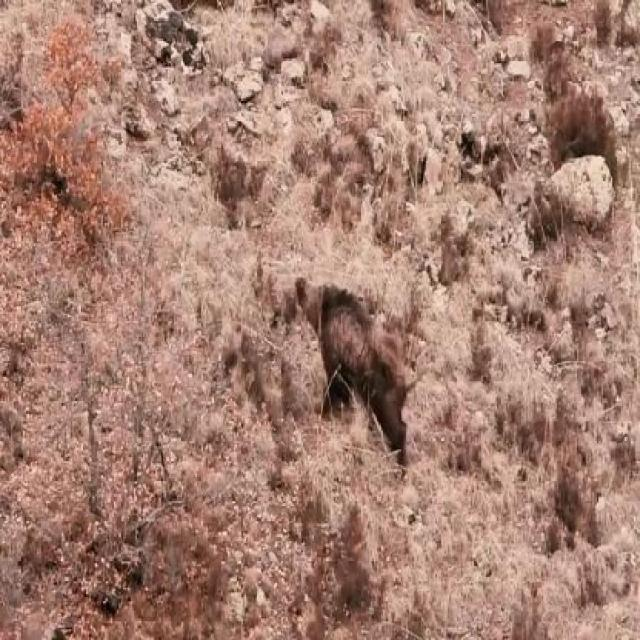pig: (283, 249, 426, 480)
